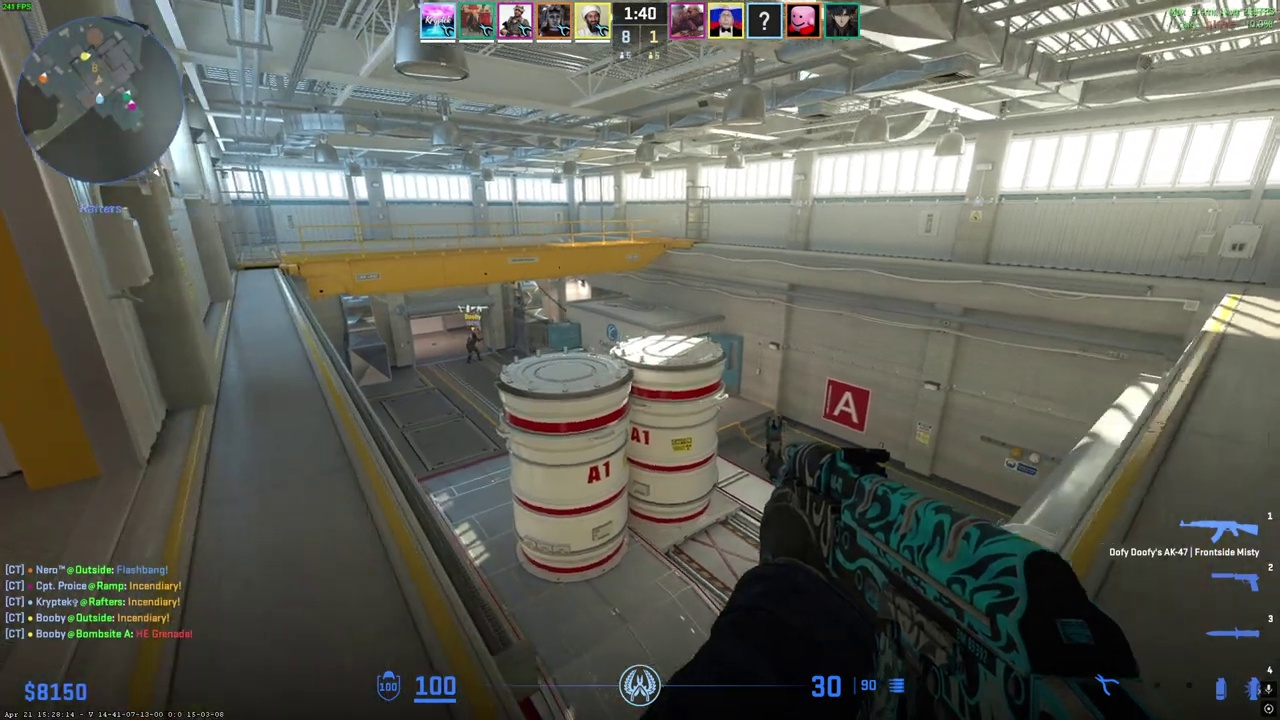CT: (466, 333, 481, 363)
